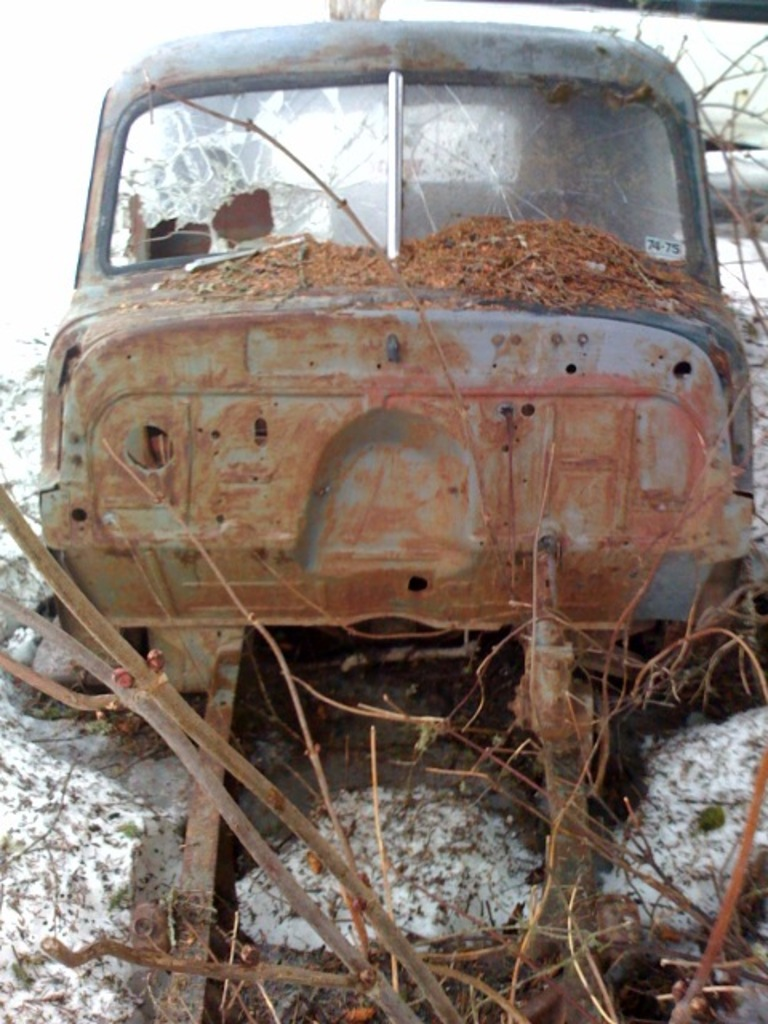Car: (35, 20, 753, 702)
